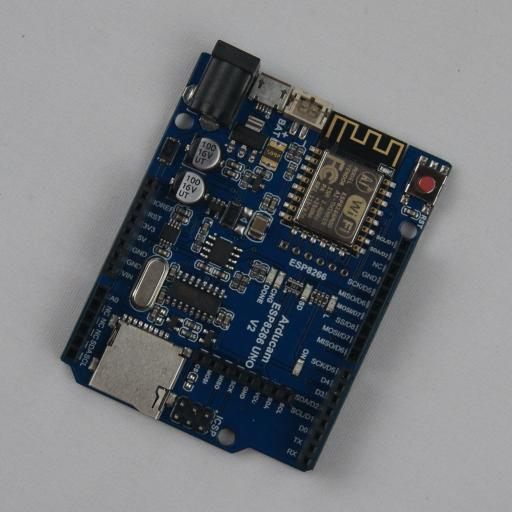Arduino Uno Camera Shield: (60, 40, 452, 472)
